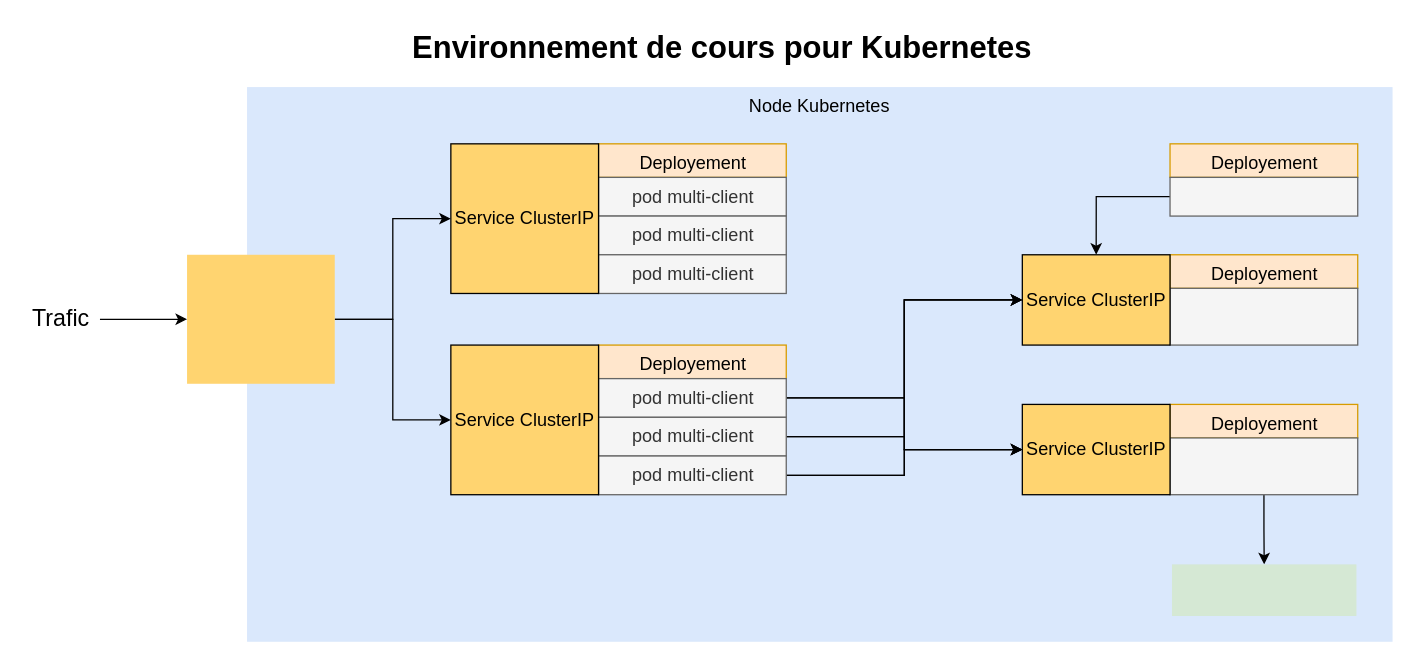
Image size: 1414x663. Some labels were removed from this diagram. The centre of each missing label's shape, as x and y in pixels:
pod multi-worker: the point at 1263,196
pod Postgres: the point at 1263,466
pod Redis: the point at 1263,316
Postgres PVC: the point at 1263,589
Service Ingress: the point at 260,318
